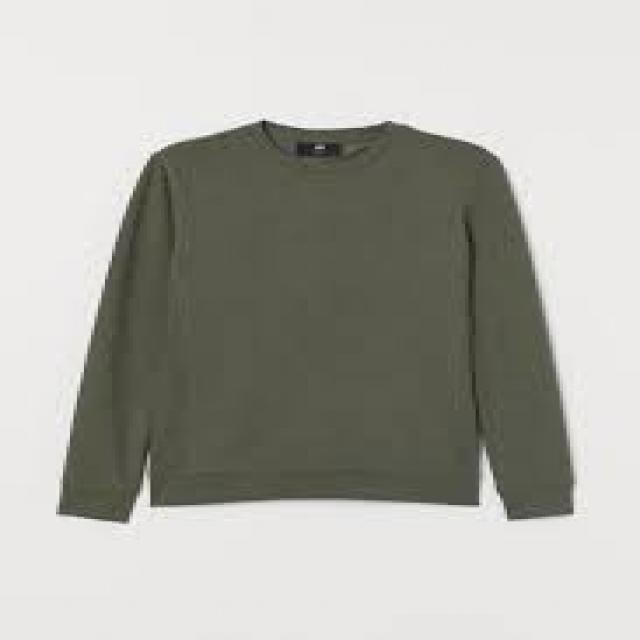plain: (54, 122, 578, 524)
